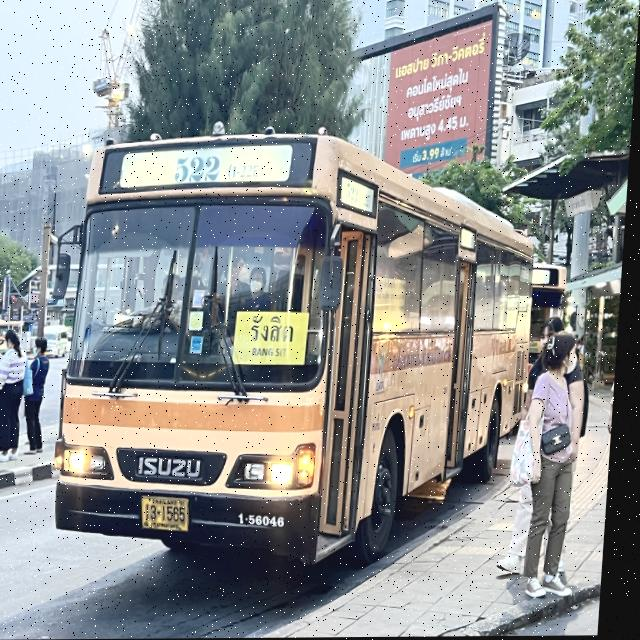BMTA-bus: (46, 112, 553, 590)
Bus-Line-Number: (170, 149, 270, 183)
Destination-Sign-Normal-Expressway: (236, 311, 312, 366)
